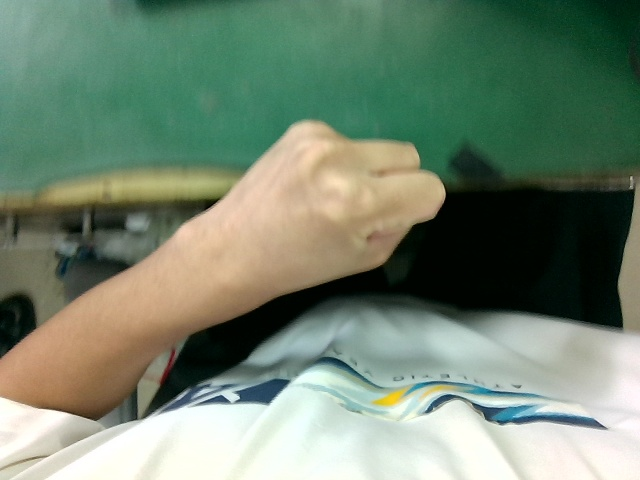stone: (191, 97, 467, 295)
